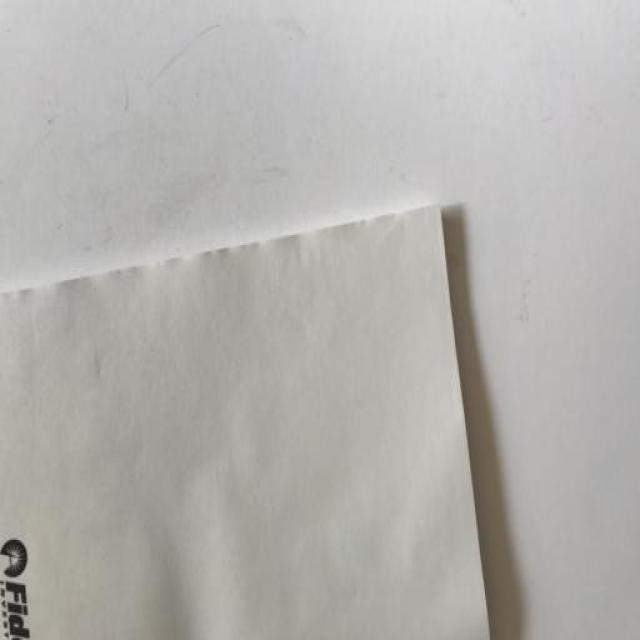paper: (0, 196, 496, 638)
